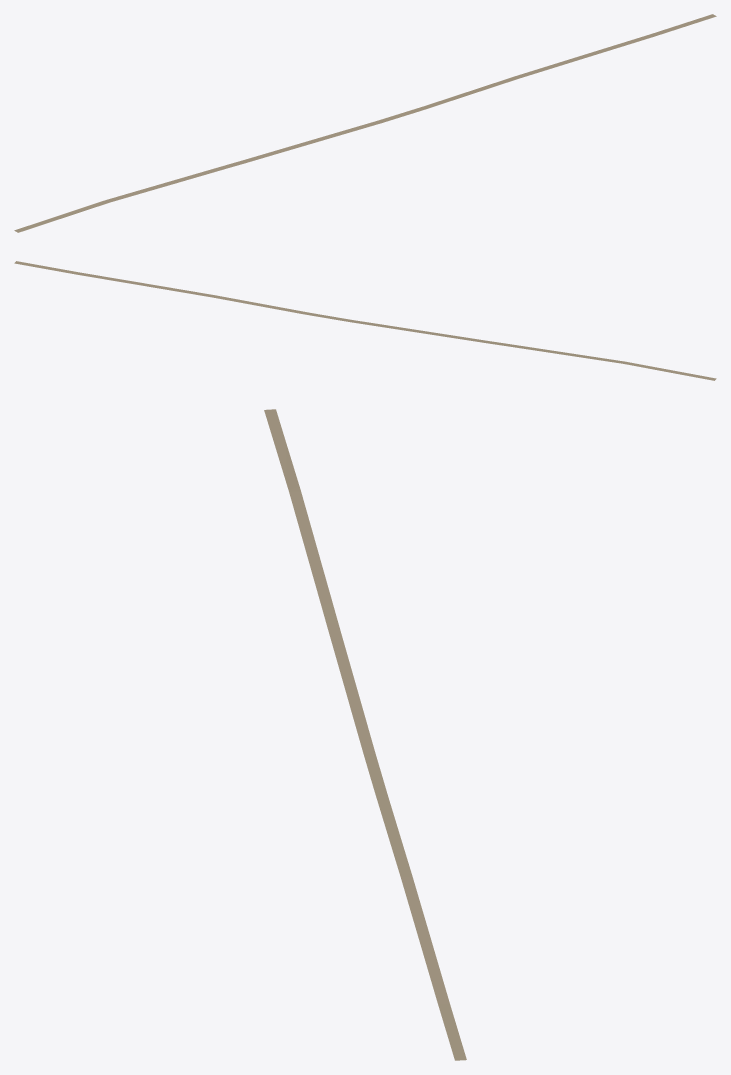
Rendered from farm_21_14_track.glb.
3 renders of one model, top to bottom at view 1: azimuth 30°, elevation 25°; view 2: azimuth 150°, elevation 25°; view 3: azimuth 270°, elevation 25°, orthographic. The views are drawn at different scales.
Visible parts, largest first — view 1: geometry_0; view 2: geometry_0; view 3: geometry_0.
Part boxes in pixels (x1=…): geometry_0: x1=14, y1=14, x2=716, y2=232; geometry_0: x1=14, y1=261, x2=716, y2=380; geometry_0: x1=264, y1=409, x2=466, y2=1060.
Size of the model in its own units: 411 by 4.69 by 55.26.
